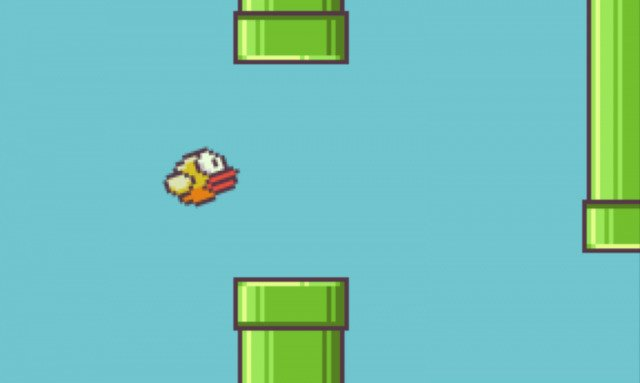flappybird: (152, 143, 244, 212)
green-pipe-down: (234, 275, 350, 383)
green-pipe-up: (581, 1, 640, 256), (232, 1, 357, 65)
